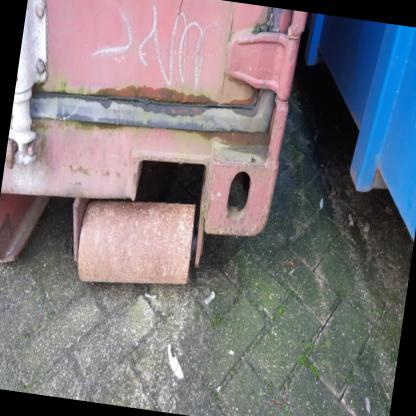CornerCasting: (198, 132, 284, 245)
